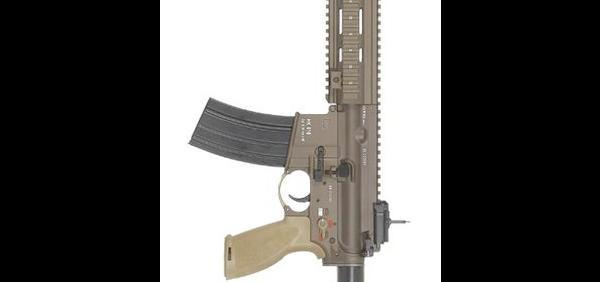gun: (184, 0, 390, 282)
